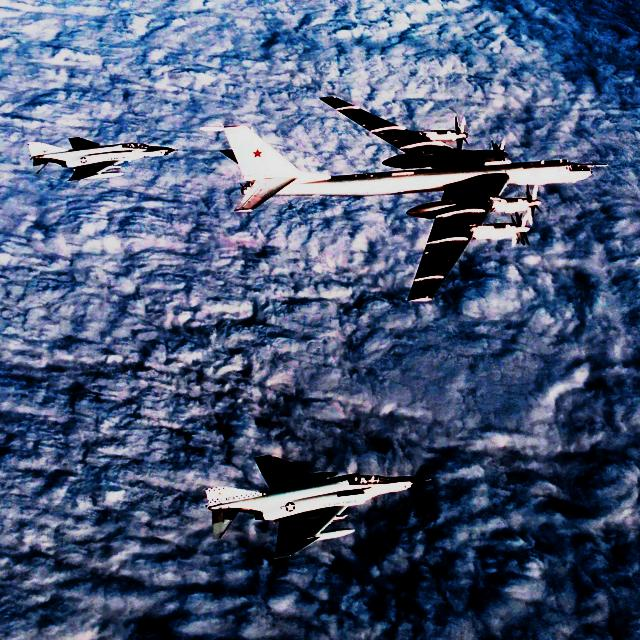Aircraft: (212, 92, 610, 308), (200, 449, 436, 566), (22, 127, 181, 189)
